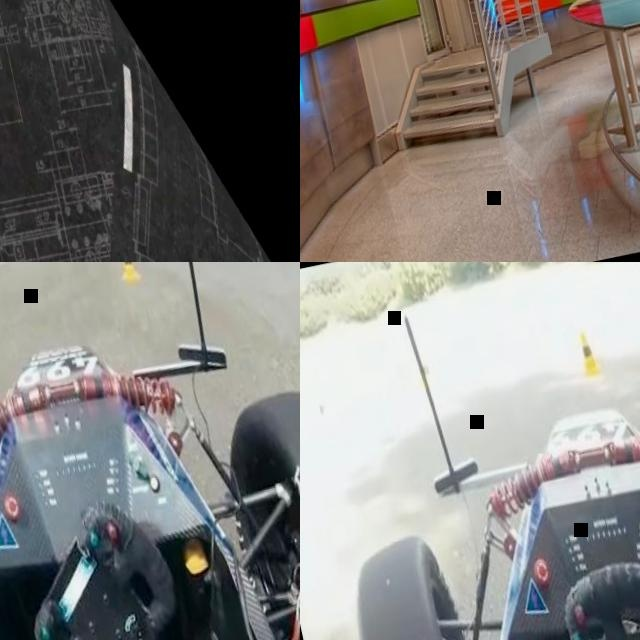Safety Cone: (561, 318, 606, 374), (115, 262, 141, 282)
vehicle: (300, 262, 640, 640), (0, 262, 300, 640)
